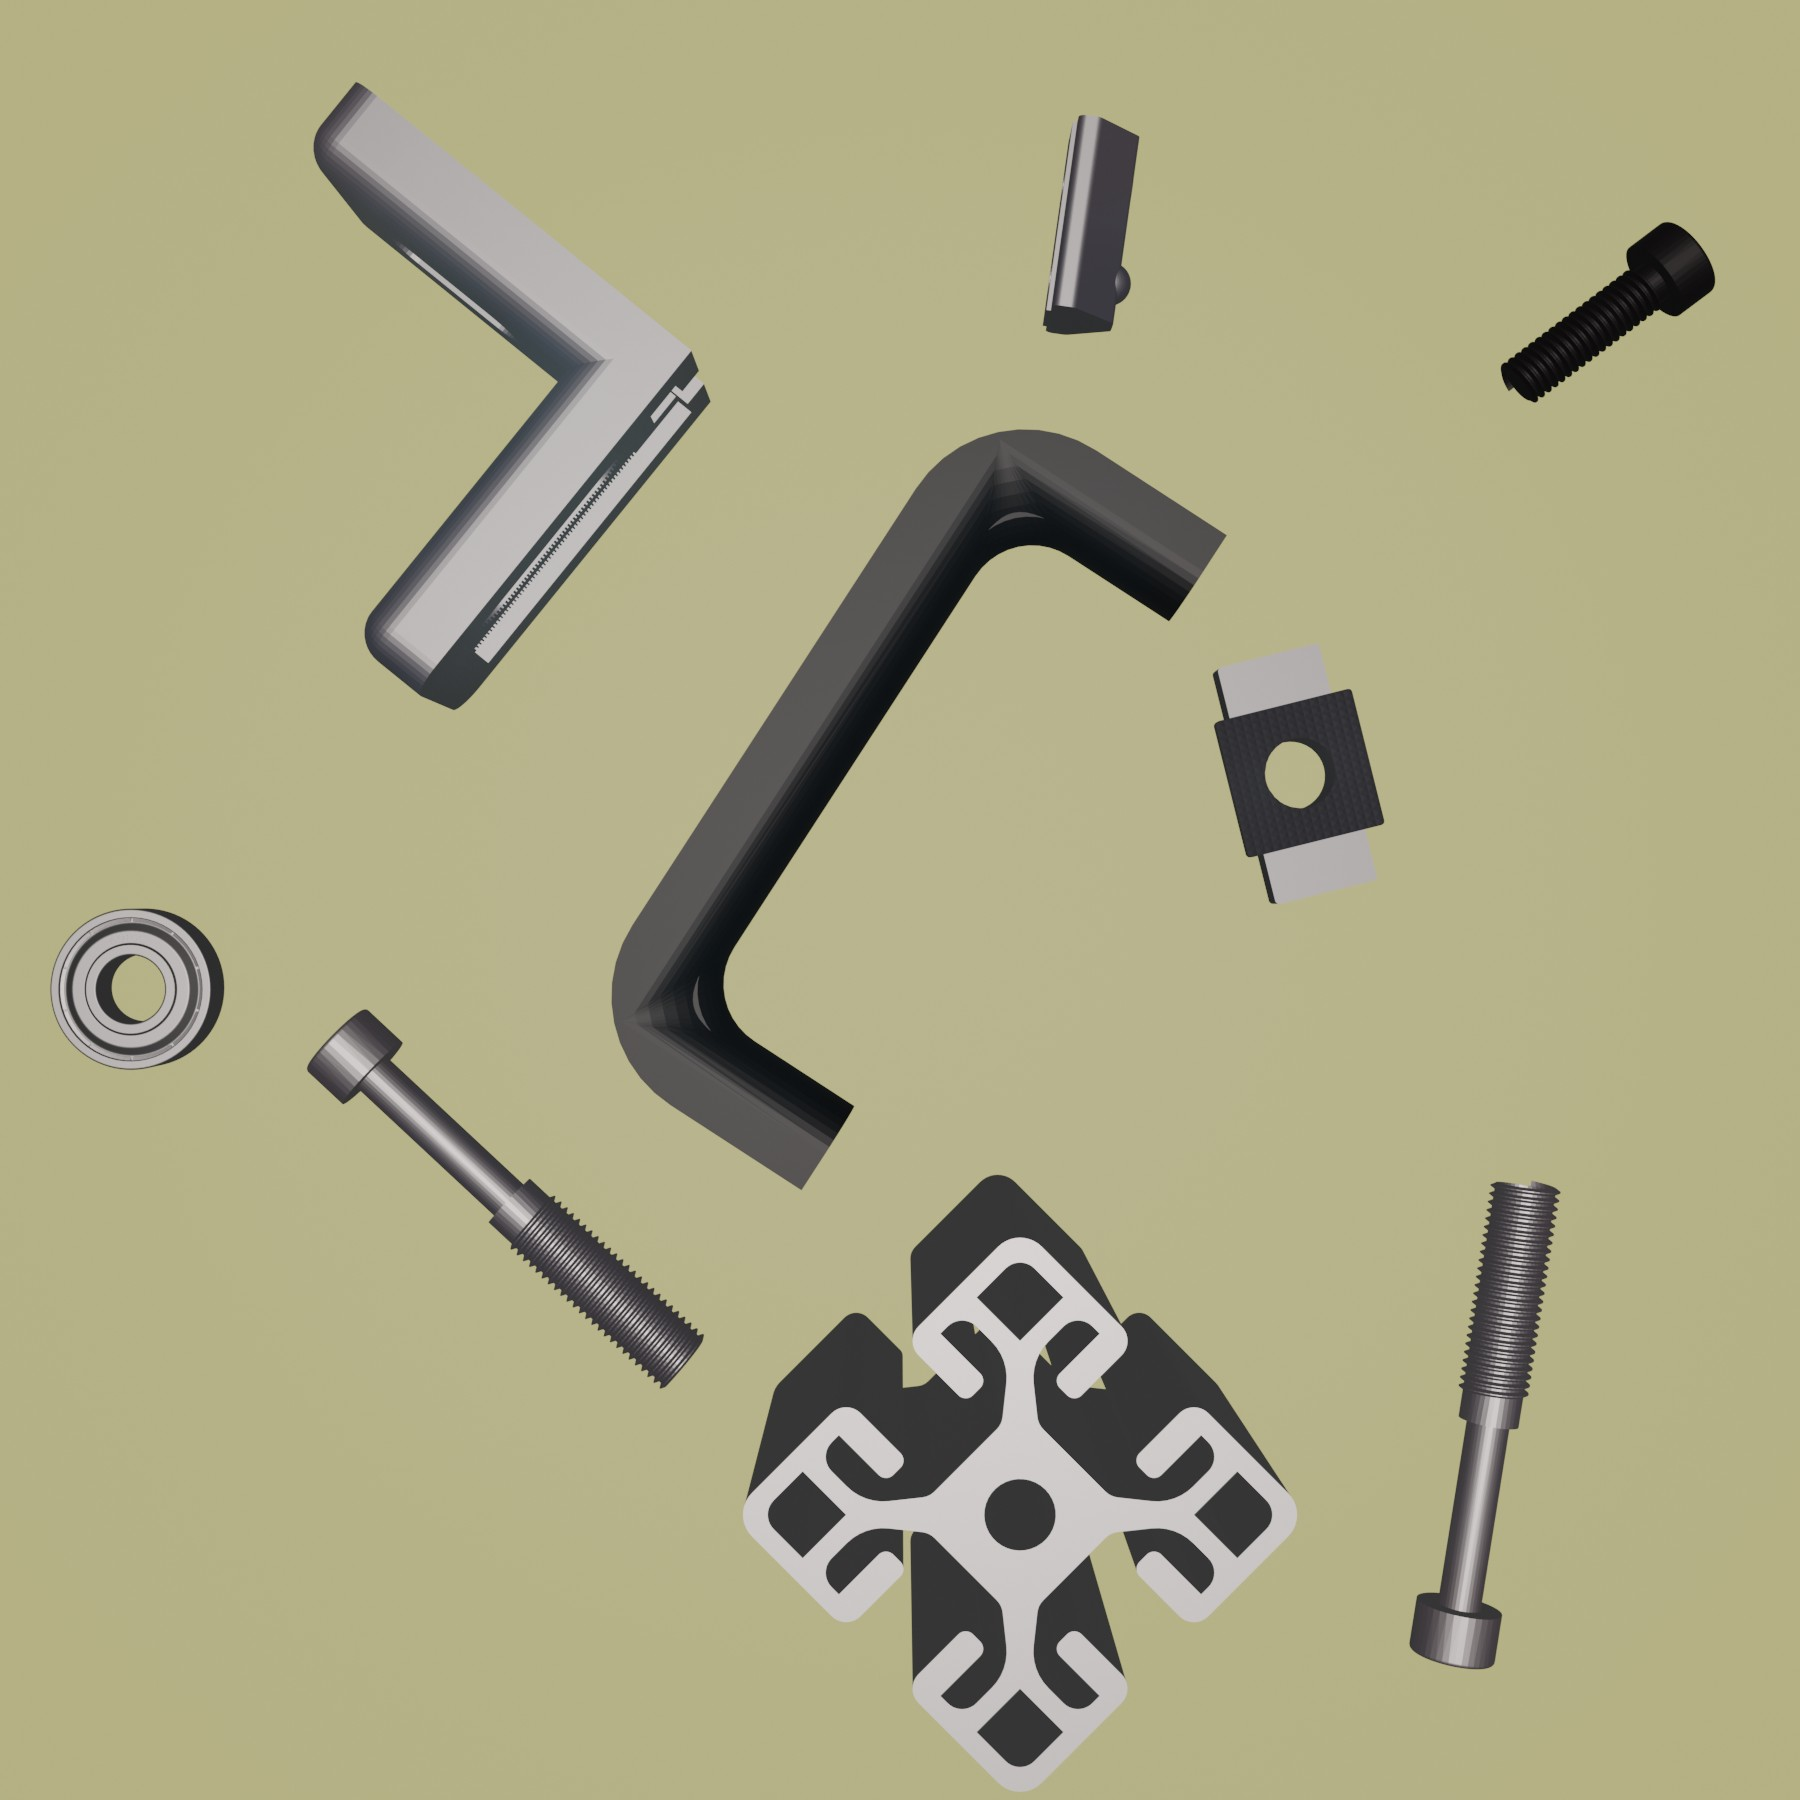Aluminium Extension: (738, 1174, 1301, 1800)
Ball Bearing: (46, 903, 227, 1075)
Multiwinkel: (312, 81, 715, 714)
Pull Handle: (608, 425, 1228, 1192)
Shoulder Socket Head Cap Screw: (303, 1005, 704, 1391), (1404, 1175, 1566, 1671)
Socket Head Cap Screw: (1497, 218, 1719, 407)
T Nut Square: (1208, 643, 1388, 907)
T Spring Nut: (1038, 109, 1144, 341)
